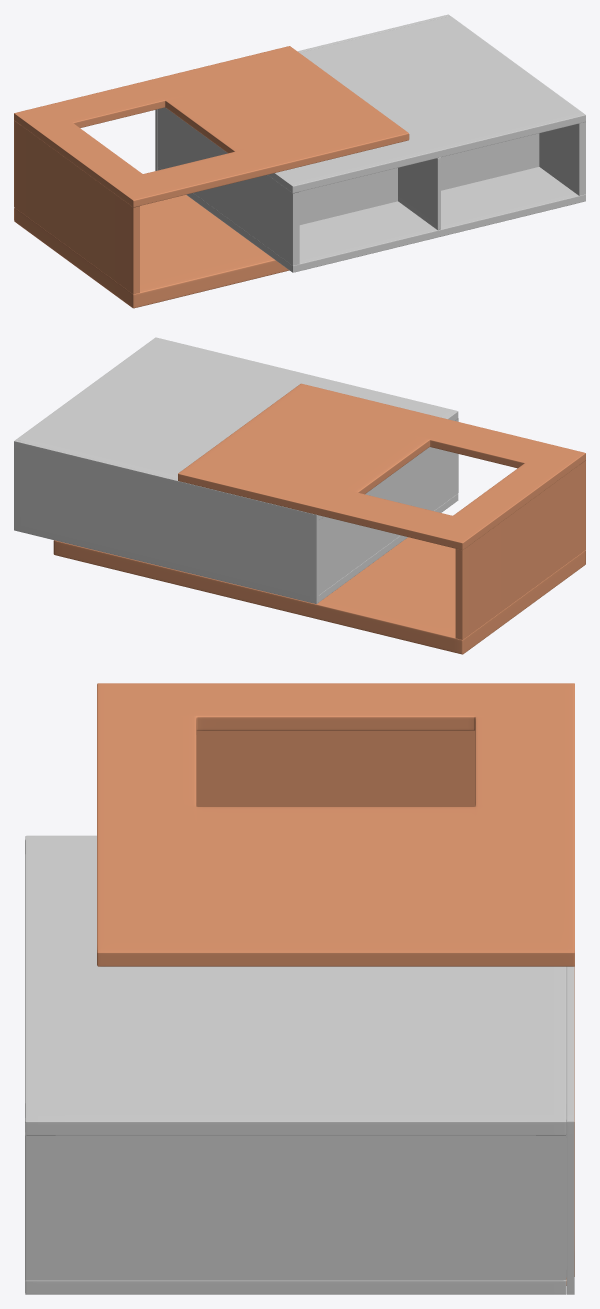
The model's file is table_05.fbx.
3 views of the same model, one above another, from view 1: azimuth 30°, elevation 25°; view 2: azimuth 150°, elevation 25°; view 3: azimuth 270°, elevation 25° (orthographic). The views are drawn at different scales.
Parts seen in each view (by area): view 1: Cube.002; view 2: Cube.002; view 3: Cube.002.
Boxes of the visible parts, box(x1,y1,x2,y2) form: Cube.002: box(14, 14, 585, 308); Cube.002: box(14, 337, 585, 654); Cube.002: box(25, 683, 574, 1294).
Bounding box in the file's own units: 126 × 30 × 69.02.
